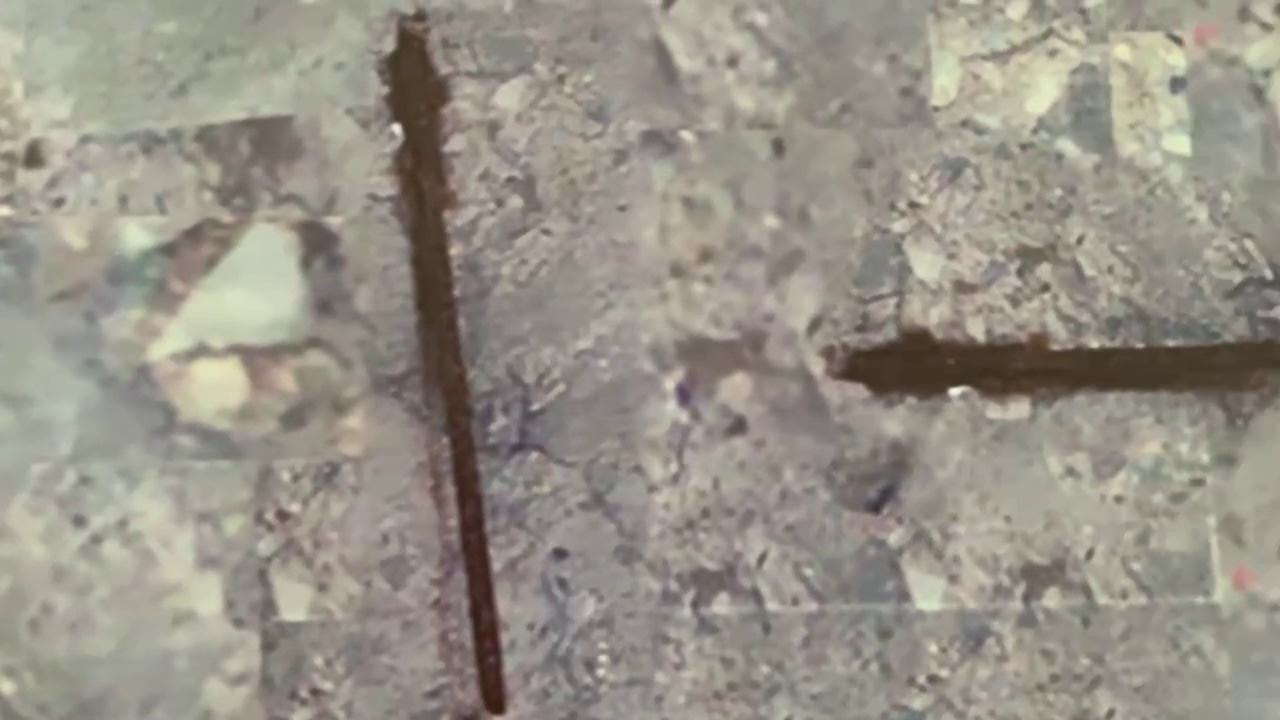Exposed reinforcement: (382, 25, 508, 715), (834, 327, 1275, 402)
